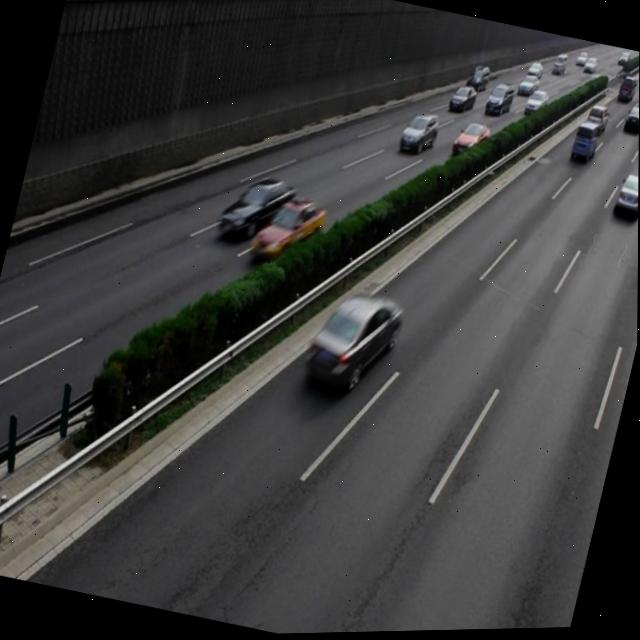car: (300, 282, 407, 403), (216, 167, 297, 253), (248, 188, 329, 269), (397, 110, 439, 158), (448, 119, 490, 166), (611, 172, 639, 221)
